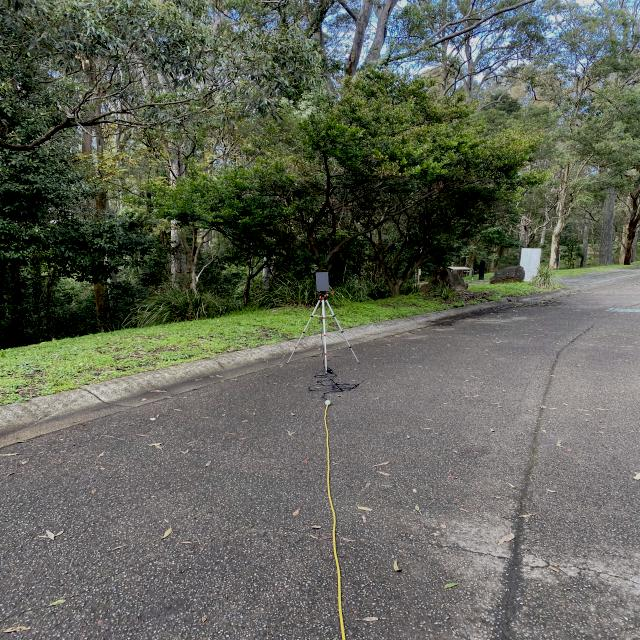matrix: (314, 270, 333, 292)
